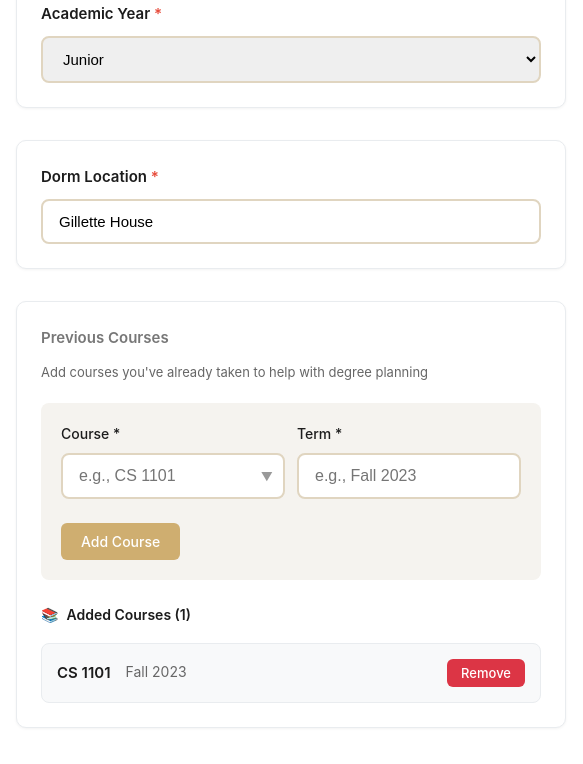
Test: ProfilePage › shows error when adding course with missing fields
(page scrolled)
Note: Try to add course without filling fields
What coordinates should you click on to do the following:
click the button "Add Course"
I would click on:
 (121, 542)
Its box is top-left (61, 523), bottom-right (180, 560).
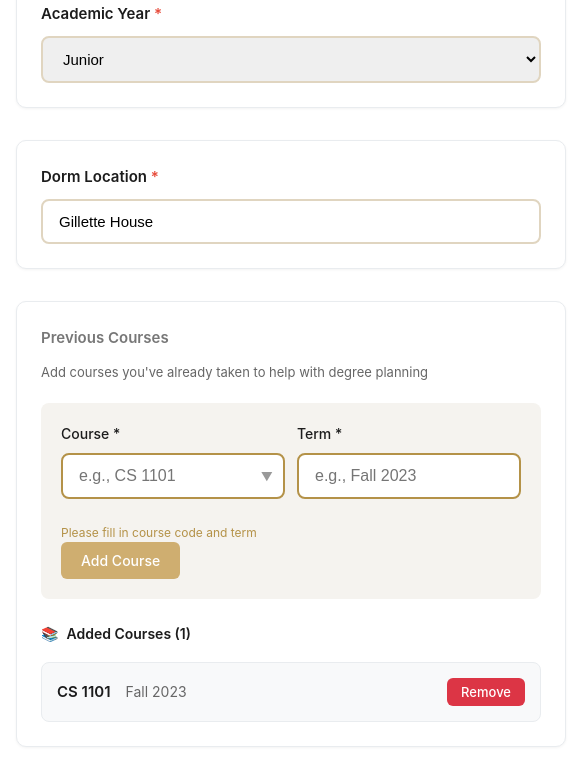
Expected: the text "Added Courses (1)" is shown, top-left (66, 623), bottom-right (191, 646)
Result: the text "Please fill in course code and term" is shown at top-left (61, 525), bottom-right (257, 540)
